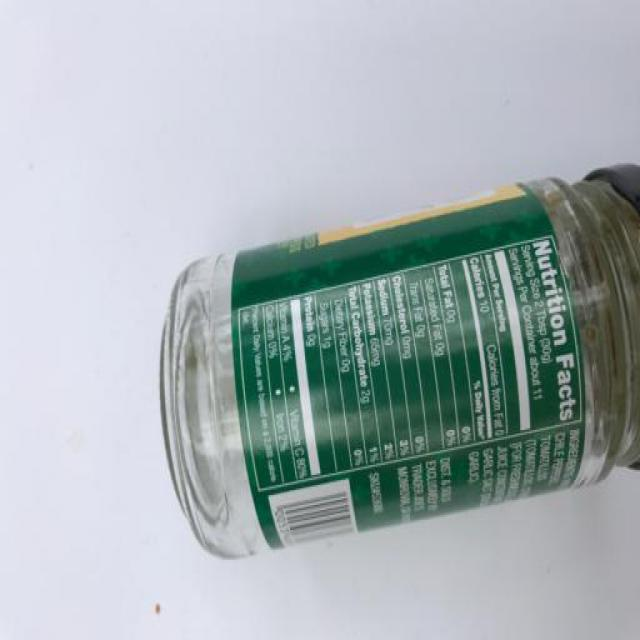glass: (133, 155, 640, 630)
